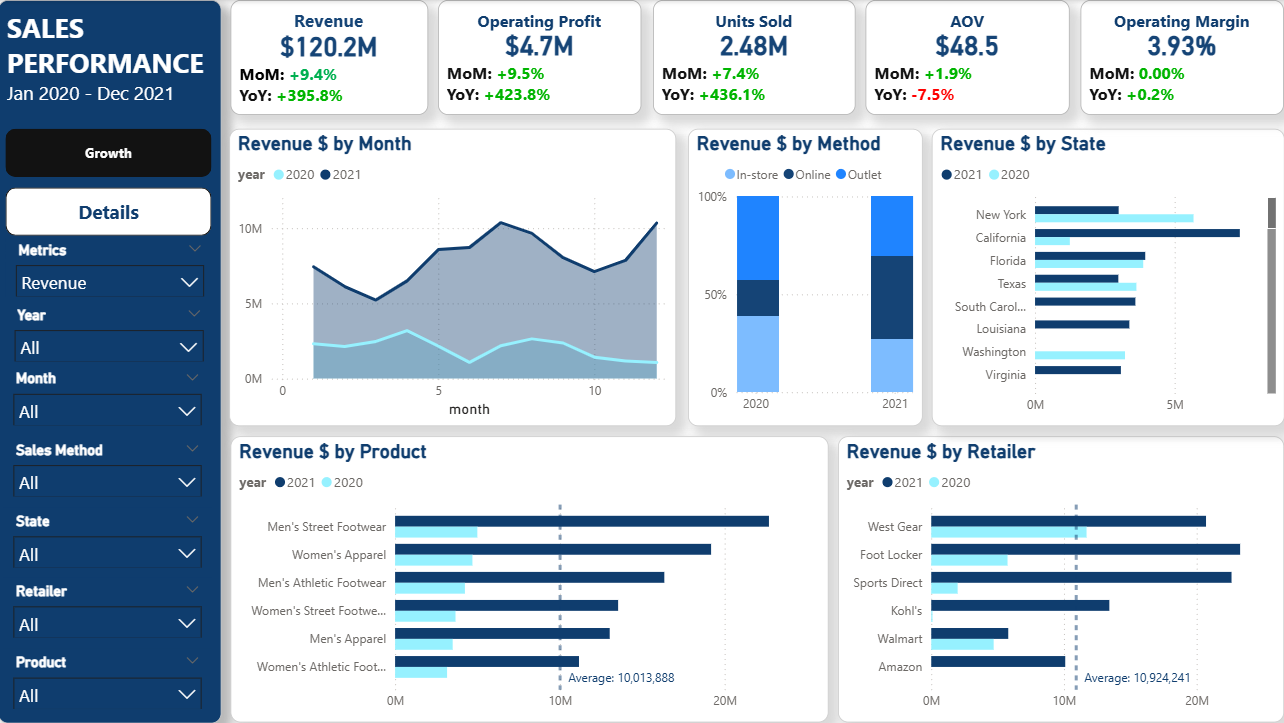

What the dashboard file says about the page in this screenshot:
{"tool":"powerbi","page":{"name":" OVERVIEW","canvas":[1280,720],"ordinal":0},"visuals":[{"type":"textbox","box":[0,0,1280.3,70],"z":0},{"type":"cardVisual","fields":{"Data":["Sum(public business_metrics.current_profit)"]},"box":[169.2,180.4,159.2,135.6],"z":1000},{"type":"clusteredBarChart","title":"Metrics by Product","fields":{"Y":["public gold_adidas_sales.revenue"],"Category":["public dim_product.product_name"]},"box":[736.4,465.2,543.6,255],"z":2000},{"type":"lineClusteredColumnComboChart","title":"Metrics by Month","fields":{"Y":["public gold_adidas_sales.revenue"],"Y2":["Avg(public gold_adidas_sales.operating_margin)"],"Category":["public dim_date.month"]},"box":[346.4,178.2,605.8,270.8],"z":3000},{"type":"donutChart","title":"Metrics by Sales Method","fields":{"Y":["public gold_adidas_sales.revenue"],"Category":["public gold_adidas_sales.sales_method"]},"box":[0,465.2,328.4,255],"z":4000},{"type":"cardVisual","title":"Revenue","fields":{"Data":["Sum(public business_metrics.current_revenue)"]},"box":[0,177.9,160.5,135.6],"z":5000},{"type":"clusteredColumnChart","title":"Metrics by Retailer","fields":{"Y":["public gold_adidas_sales.revenue"],"Category":["public dim_retailer.retailer_name"]},"box":[965.3,79.6,314.7,369.5],"z":6000},{"type":"slicer","fields":{"Values":["Metrics.Metrics"]},"box":[965,0,144,69.8],"z":7000},{"type":"cardVisual","fields":{"Data":["Sum(public business_metrics.current_margin_percent)"]},"box":[169.2,316,159.2,139.3],"z":8000},{"type":"cardVisual","fields":{"Data":["Sum(public business_metrics.current_units)"]},"box":[0,316,160.5,139.3],"z":9000},{"type":"filledMap","title":"Metrics by State","fields":{"Category":["public dim_location.state"]},"box":[345.8,465.2,376.9,255],"z":10000},{"type":"slicer","fields":{"Values":["public dim_location.state"]},"box":[1127.5,0,136.8,69.8],"z":11000},{"type":"shape","box":[0,79.8,952.2,88.4],"z":12000},{"type":"pageNavigator","box":[37.1,96.9,876.6,54.2],"z":13000},{"type":"slicer","fields":{"Values":["public dim_date.year"]},"box":[678.5,0,119.7,69.8],"z":14000},{"type":"slicer","fields":{"Values":["public dim_date.month"]},"box":[821,0,119.7,69.8],"z":15000}]}

Visuals, with their boxes in screenshot pixels (x1, y1, x2, y2), scaled from the page's 1280x720 canvas onto the 1284x723 screenshot:
textbox: <region>0, 0, 1283, 70</region>
cardVisual - Sum(public business_metrics.current_profit): <region>170, 181, 329, 317</region>
"Metrics by Product" clusteredBarChart: <region>739, 467, 1283, 722</region>
"Metrics by Month" lineClusteredColumnComboChart: <region>347, 179, 955, 451</region>
"Metrics by Sales Method" donutChart: <region>0, 467, 329, 722</region>
"Revenue" cardVisual: <region>0, 179, 161, 315</region>
"Metrics by Retailer" clusteredColumnChart: <region>968, 80, 1283, 451</region>
slicer - Metrics.Metrics: <region>968, 0, 1112, 70</region>
cardVisual - Sum(public business_metrics.current_margin_percent): <region>170, 317, 329, 457</region>
cardVisual - Sum(public business_metrics.current_units): <region>0, 317, 161, 457</region>
"Metrics by State" filledMap: <region>347, 467, 725, 722</region>
slicer - public dim_location.state: <region>1131, 0, 1268, 70</region>
shape: <region>0, 80, 955, 169</region>
pageNavigator: <region>37, 97, 917, 152</region>
slicer - public dim_date.year: <region>681, 0, 801, 70</region>
slicer - public dim_date.month: <region>824, 0, 944, 70</region>
